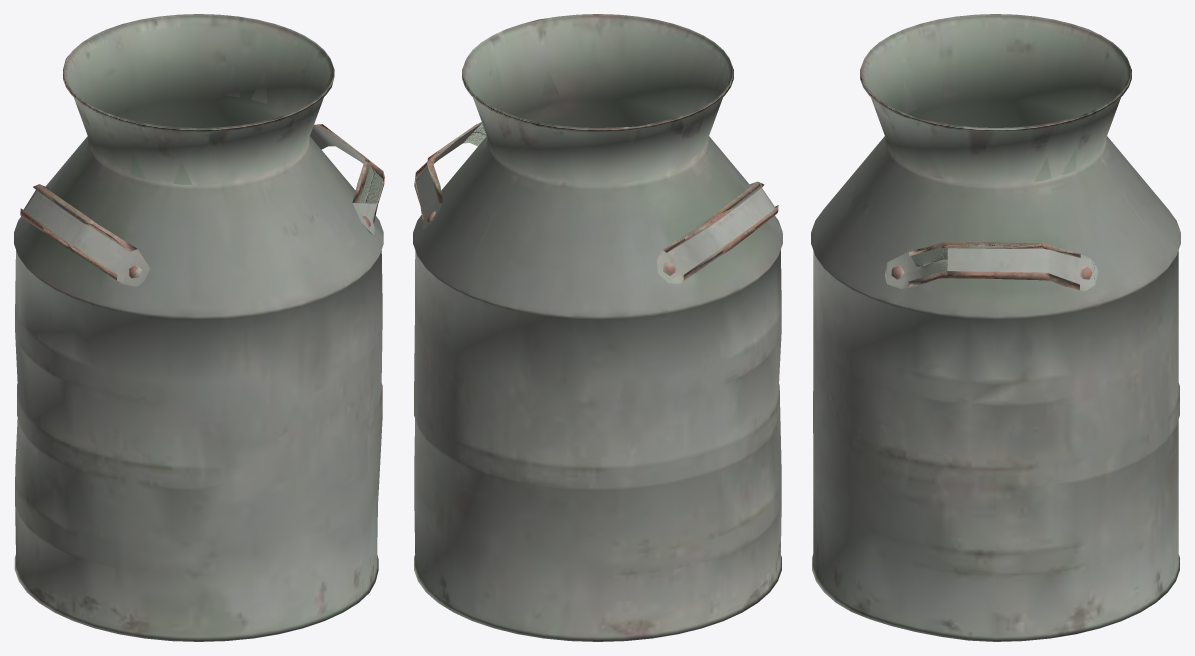
Rendered from metal_jug.glb.
3 renders of one model, left to right at view 1: azimuth 30°, elevation 25°; view 2: azimuth 150°, elevation 25°; view 3: azimuth 270°, elevation 25°, orthographic.
Parts seen in each view (by area): view 1: metal_jug; view 2: metal_jug; view 3: metal_jug.
Boxes of the visible parts, x1,y1,x2,y2 form: metal_jug: (14,14,384,641); metal_jug: (413,14,782,641); metal_jug: (811,14,1180,641).
Size of the model in its own units: 0.1968 by 0.2875 by 0.1955.
Materials: 1 (1 with a texture image).
